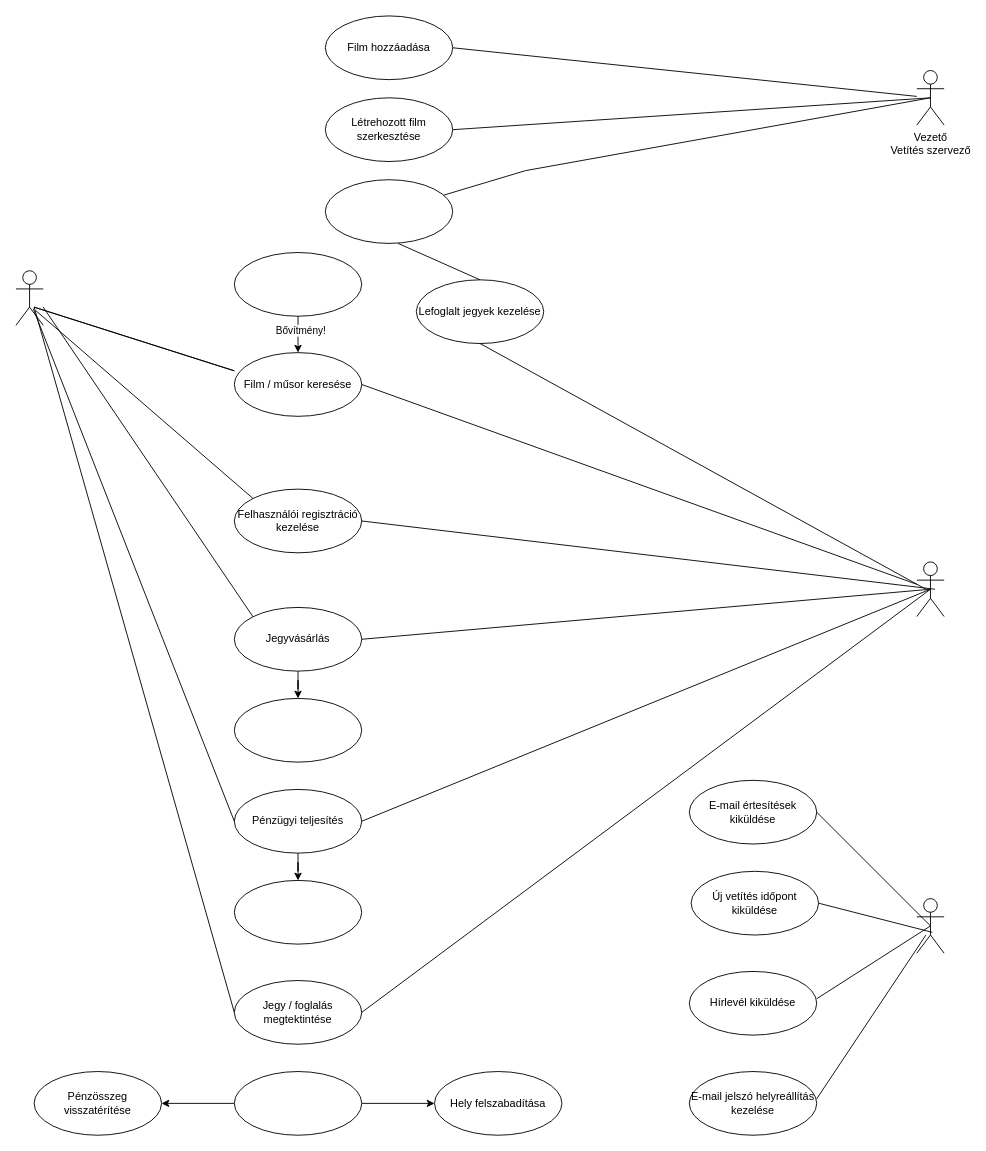
Image size: 986x1151. Some labels were removed from this diagram. The shapes that lost their labels are listed below. From the top down, each one's centre as x and y in pixels, then its label:
At (388,211): "Létrehozott film törlése".
At (29,297): "Vevő".
At (297,284): "Keresés kritériumok alapján".
At (930,589): "Jegyárus".
At (297,730): "Ülőhely kiválasztása".
At (297,912): "Voucher beváltás".
At (930,925): "Szerver".
At (297,1103): "Lefoglalt jegy visszamondása".
